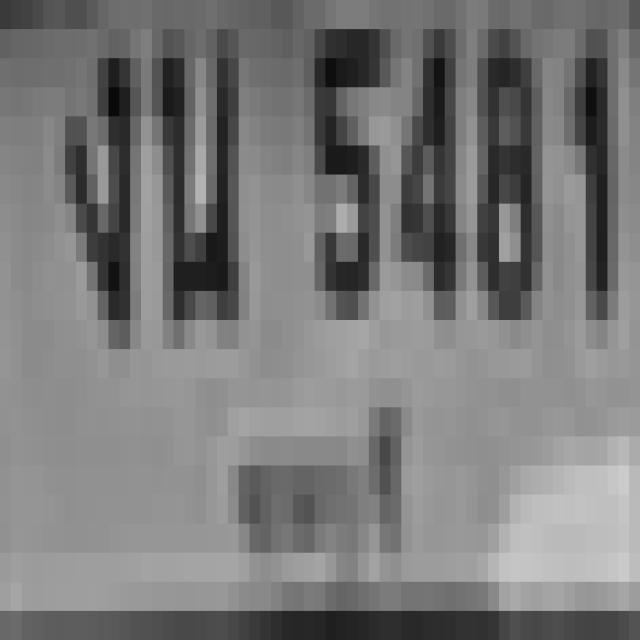1: (554, 29, 608, 320)
16NgorNgu: (65, 29, 141, 349)
34NorNu: (148, 24, 254, 352)
4: (380, 29, 456, 320)
5: (297, 6, 381, 325)
8: (456, 29, 542, 320)
